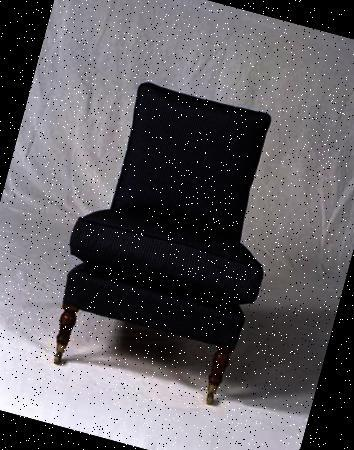Silla: (48, 75, 302, 409)
